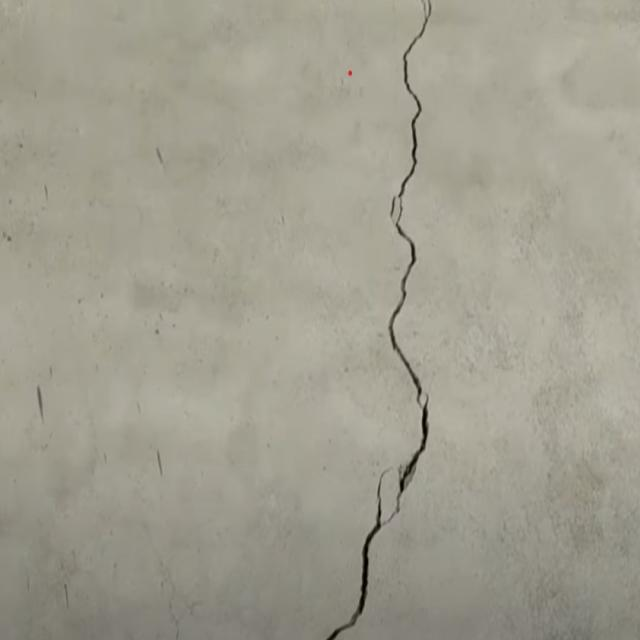Wall_Cracks: (289, 0, 498, 640)
